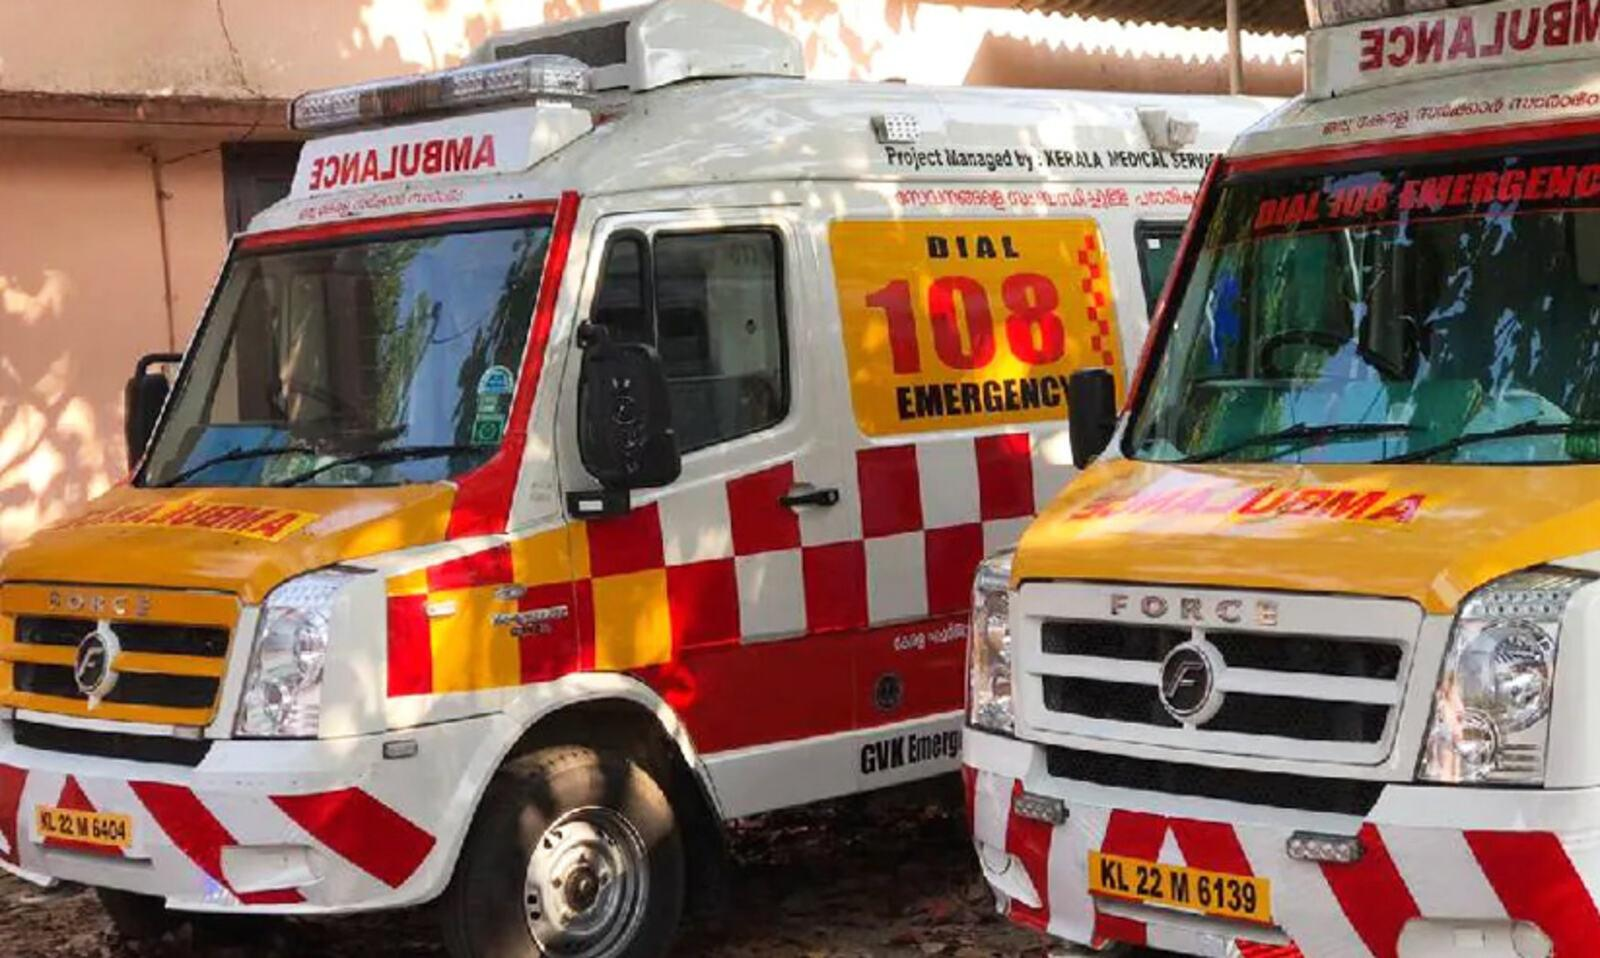ER: (0, 0, 1220, 922), (966, 0, 1600, 958)
